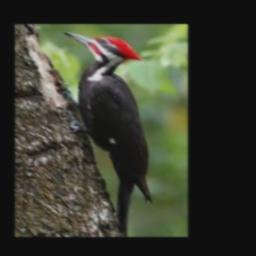Woodpecker: (62, 31, 151, 236)
